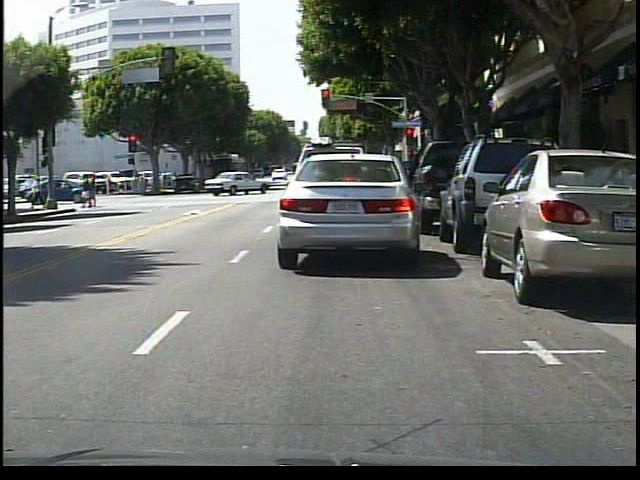person: (81, 175, 102, 209), (33, 175, 46, 209)
